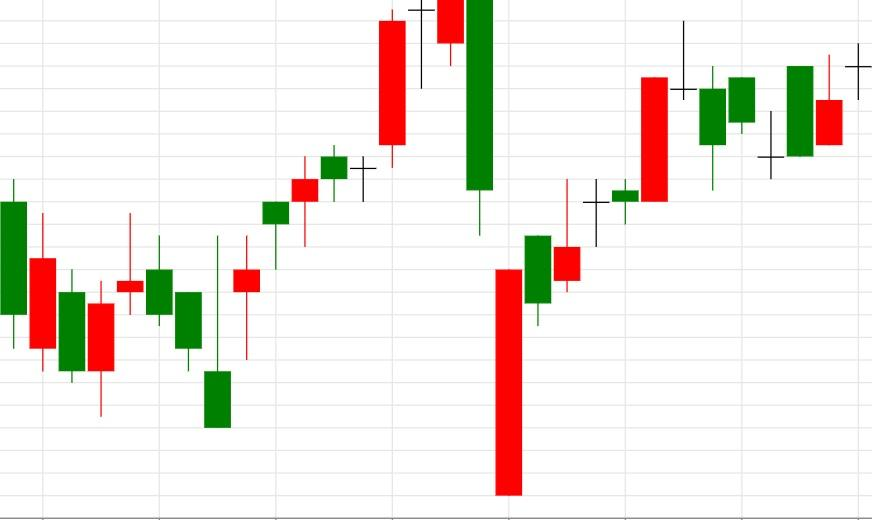bearish_engulfing_fall: (203, 0, 494, 429)
evening_star_fall: (495, 20, 727, 496)
